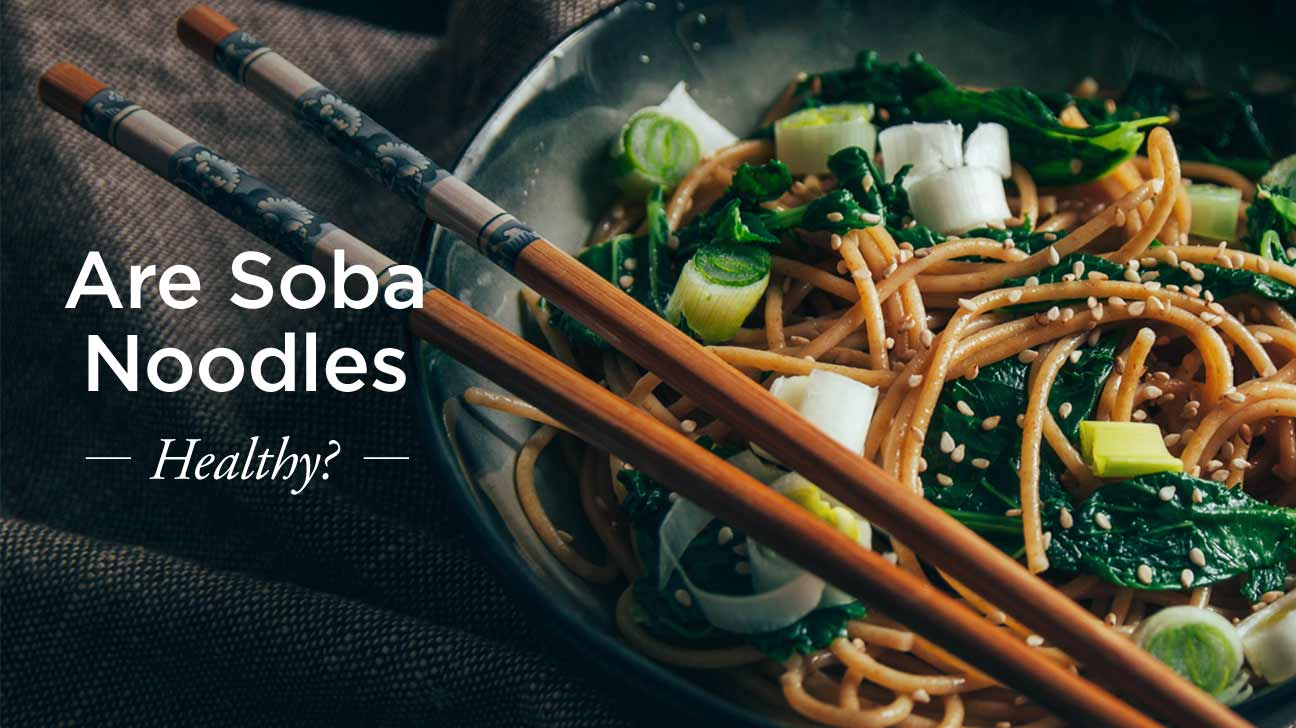Soba: (736, 176, 1296, 572)
